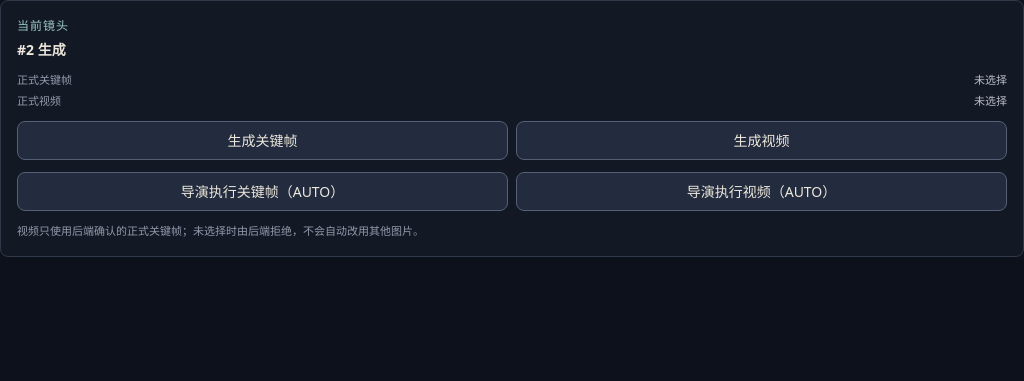
Test: ShotProductionActions › carries the same concrete references through plan and execution
This screenshot has width=1024, height=381.
Click the button "生成关键帧" at (262, 140), box [17, 121, 508, 160]
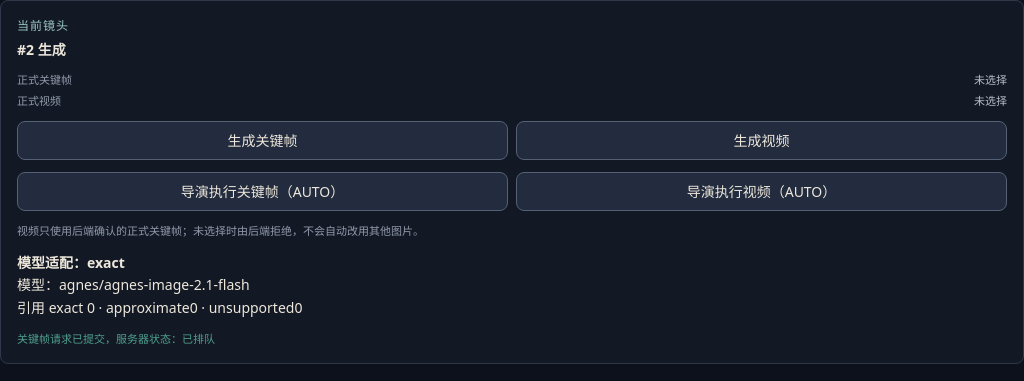
expect the message with test id "shot-production-status" is shown: met, box [17, 331, 215, 346]
